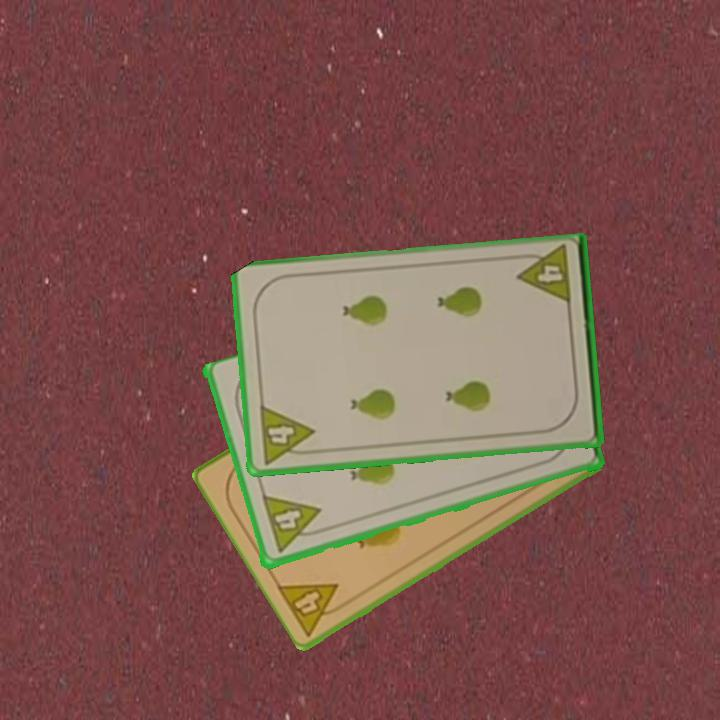4p: (273, 579, 354, 639), (259, 492, 328, 557), (255, 402, 319, 467), (513, 243, 574, 308)
